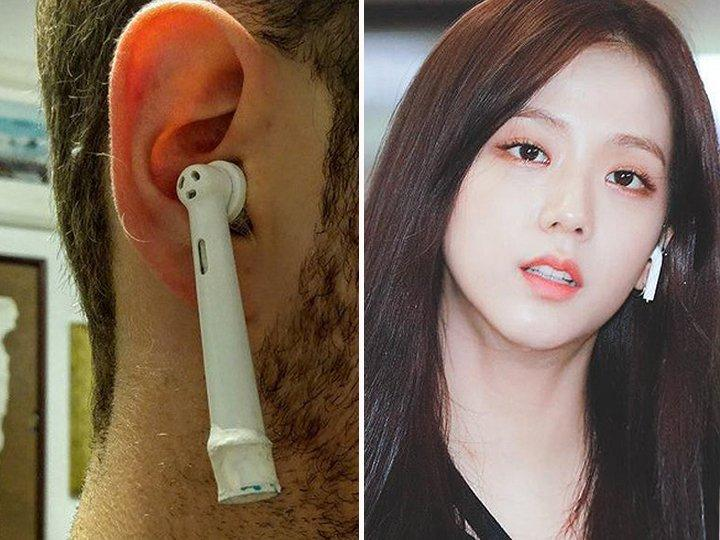earphone: (631, 242, 666, 305)
